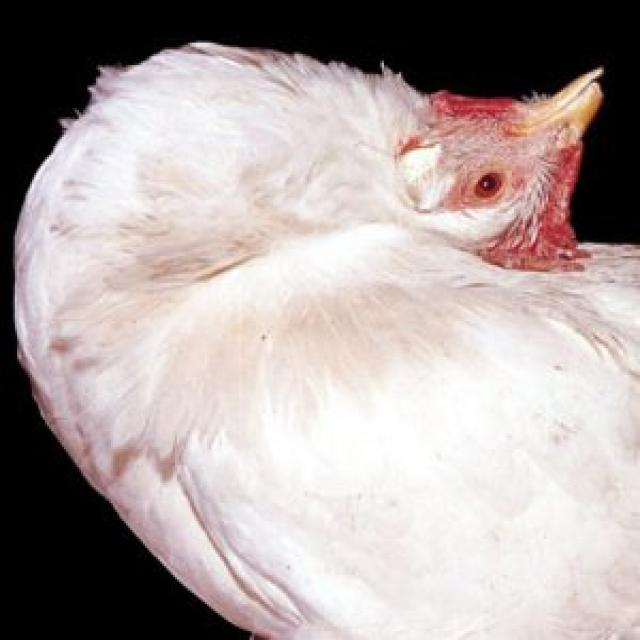newcastle: (17, 24, 638, 640)
